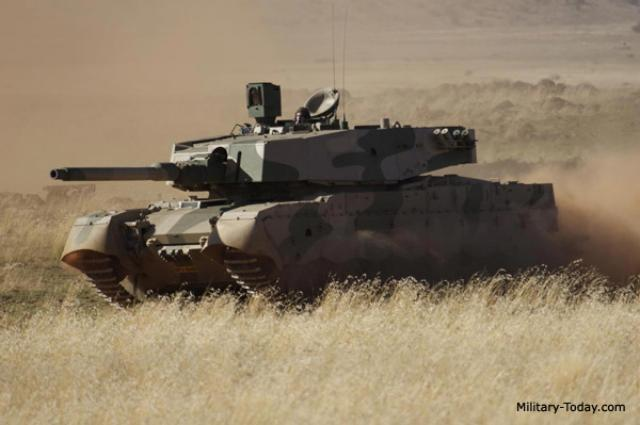tank: (71, 125, 562, 318)
